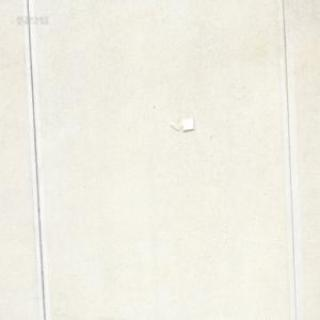LuggageTagtrack_idkeyframe: (168, 116, 194, 133)
